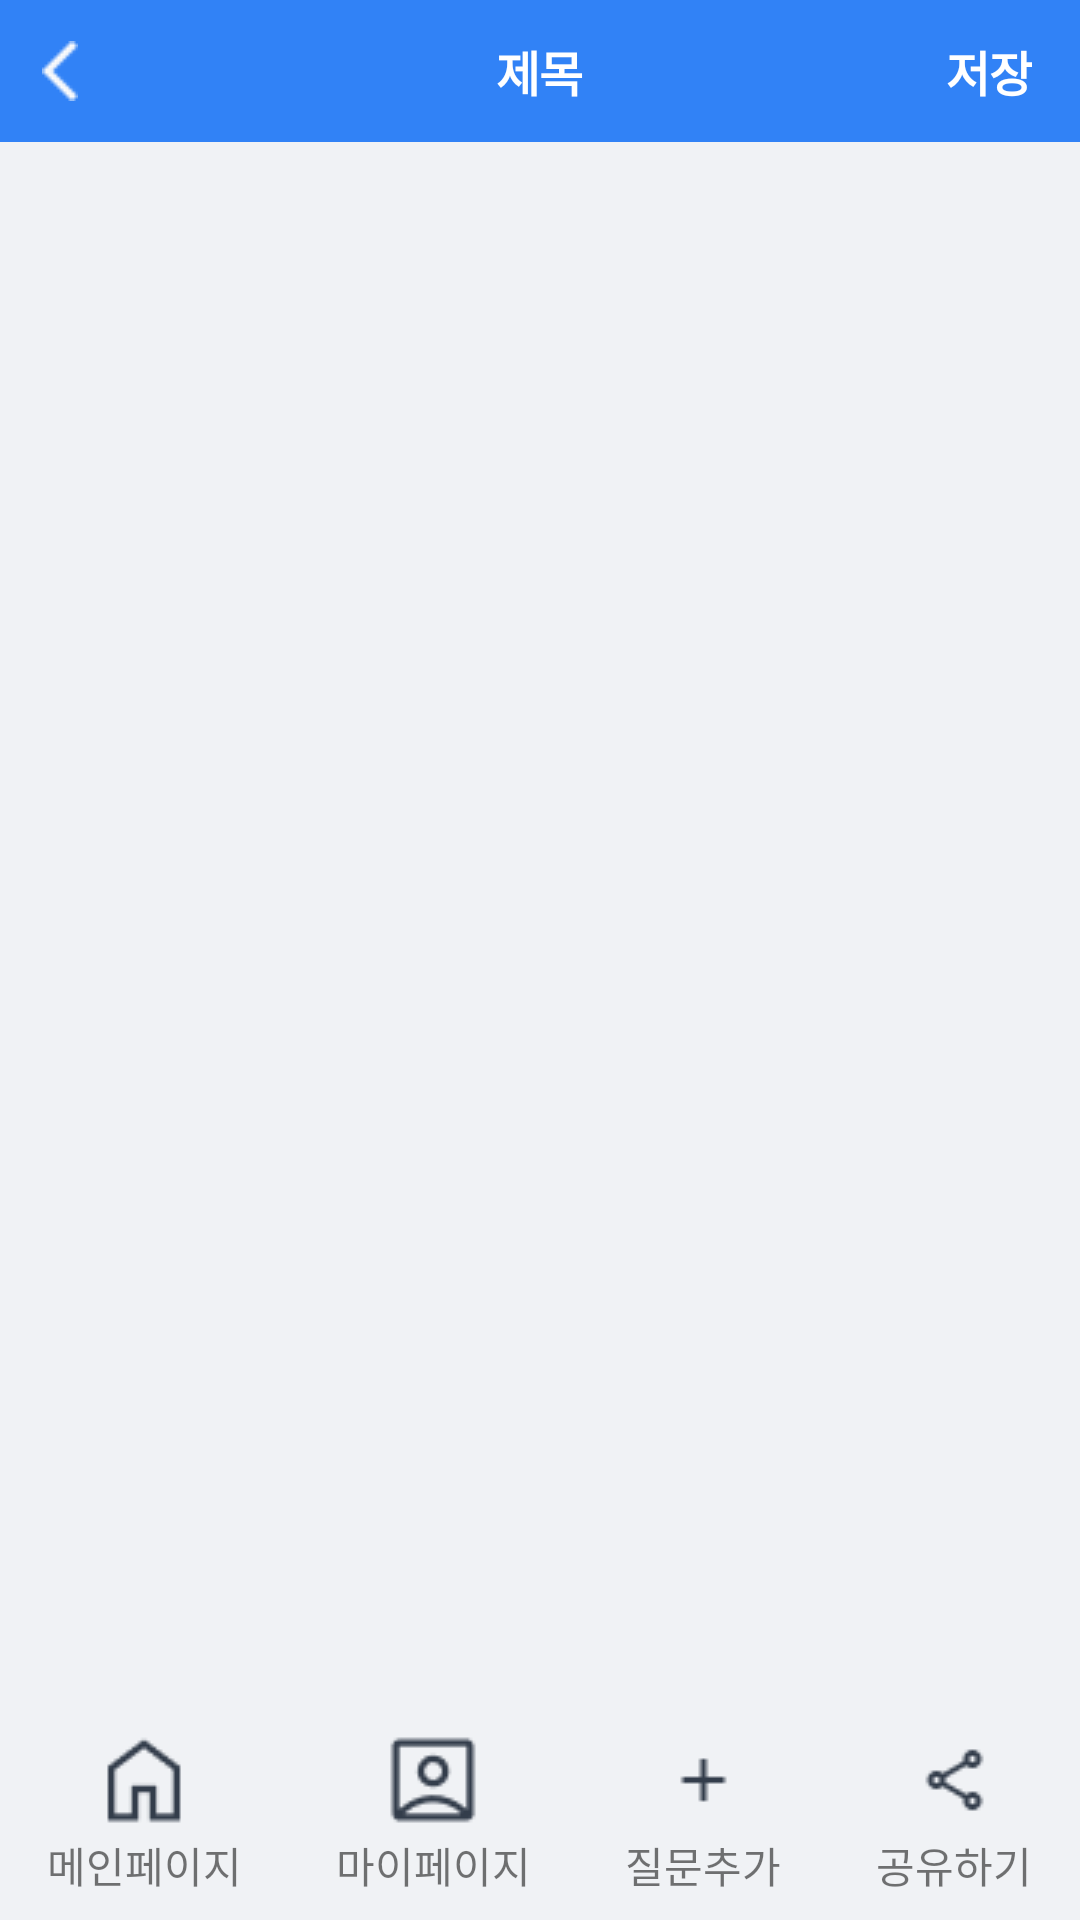

Screen size 1080px×1920px. Icon name, then its box in pixels as (x1, y1, x2, y2):
navigate back: (42, 41, 78, 101)
navigate plus: (680, 1758, 727, 1802)
